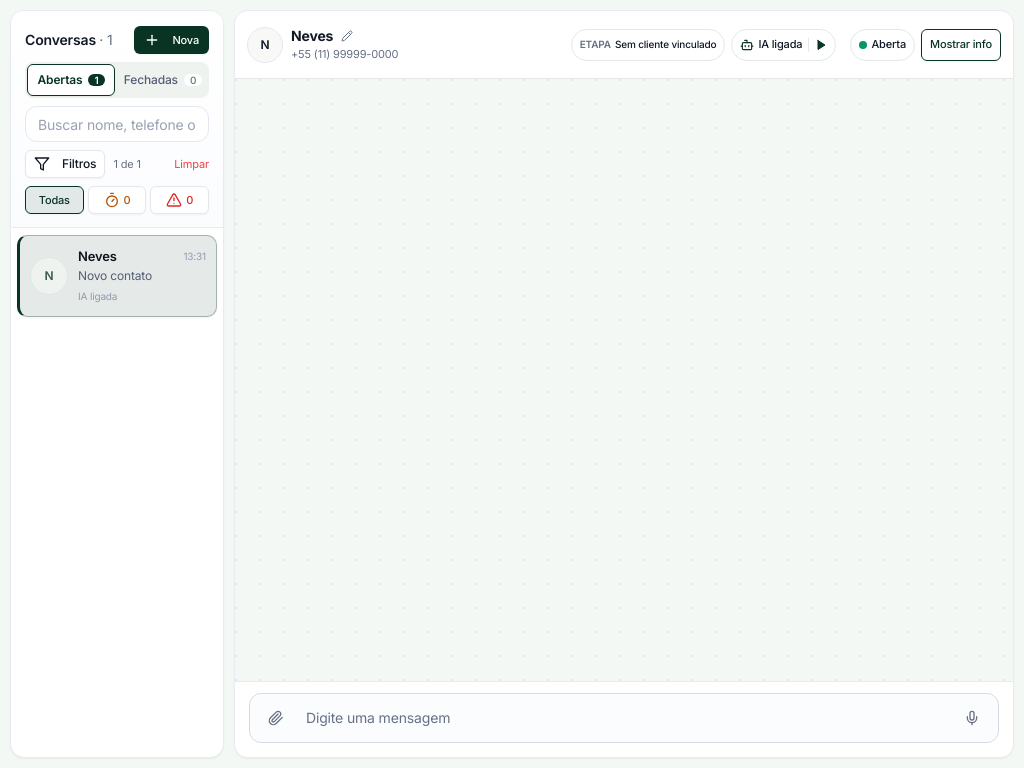
conversas de contatos diferentes do WhatsApp não são unidas, e a tela diz por quê
Click the button named "Editar nome" at (347, 36), box [337,26,357,46]
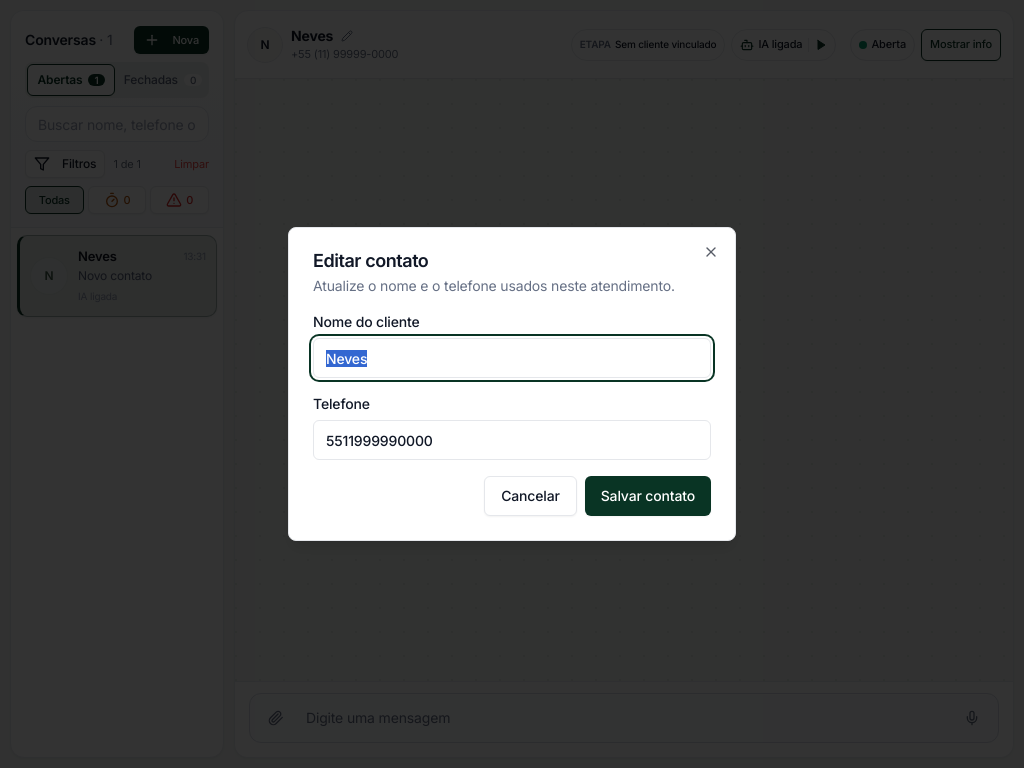
Replace the text in the field labelled "Telefone" with "(11) 98888-7777" at (512, 440), box [313,420,711,460]
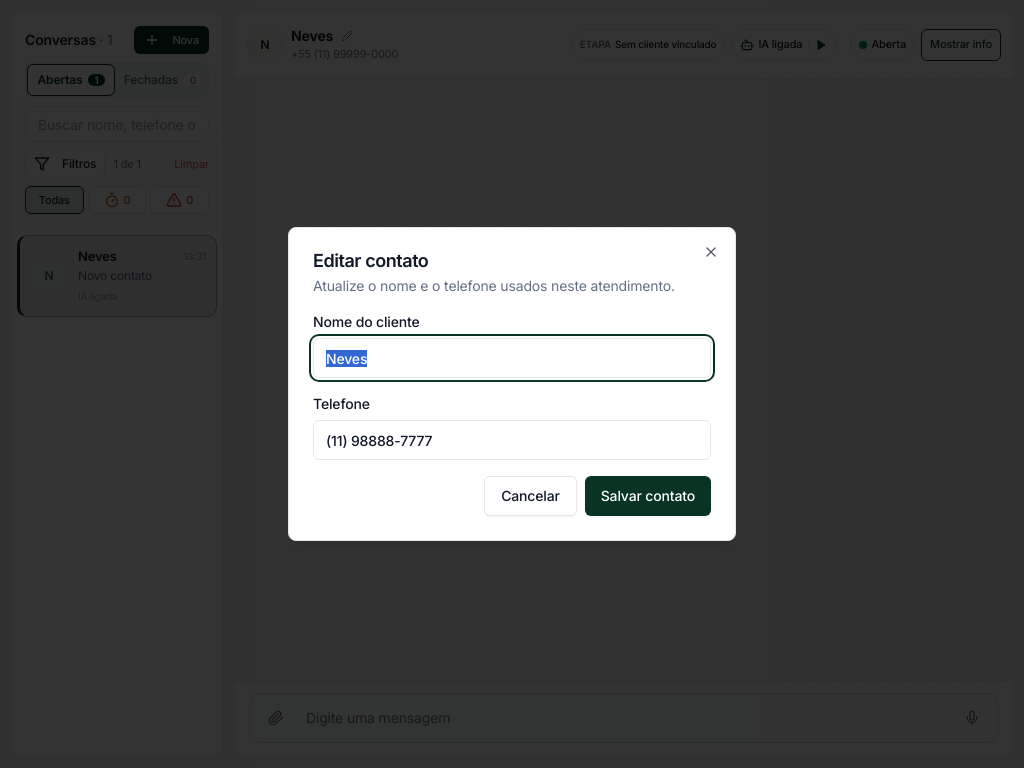
Click the button "Salvar contato" at (648, 496), box [585,476,711,516]
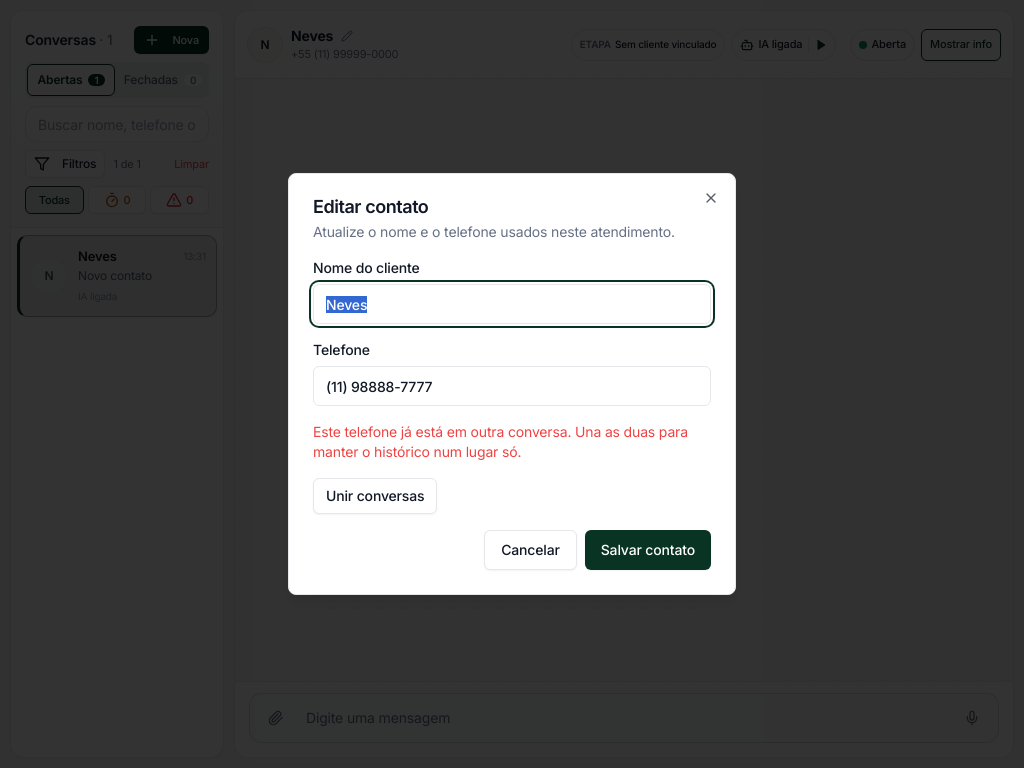
Click the button "Unir conversas" at (375, 496), box [313,478,437,514]
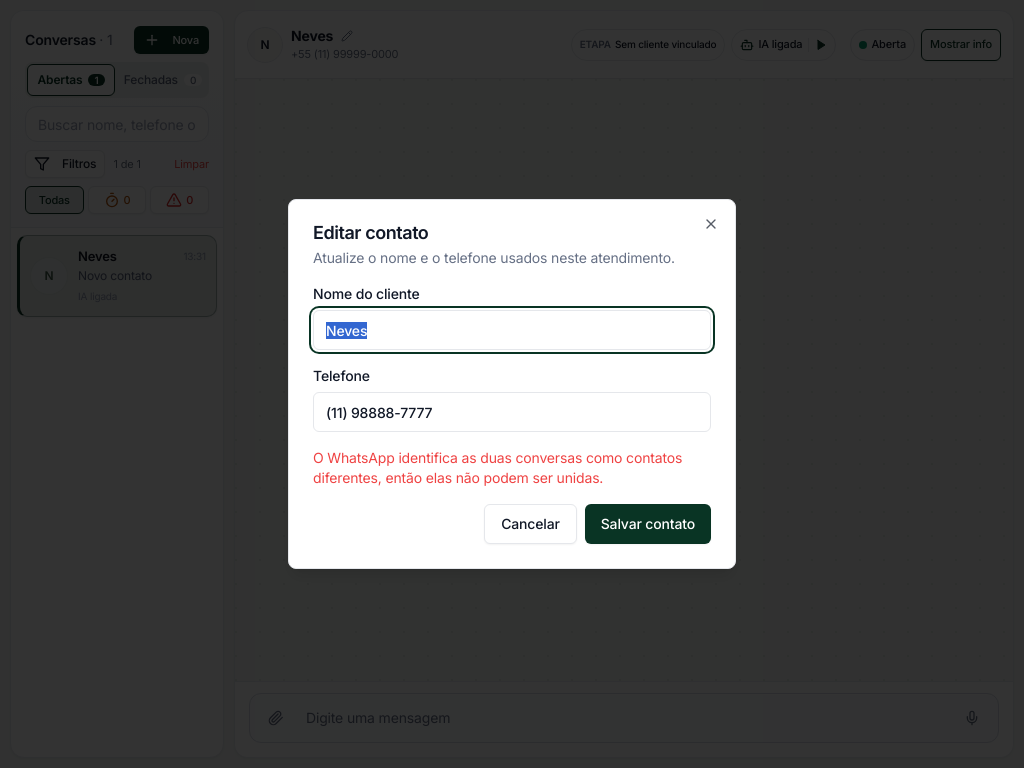
Expected: the text "contatos diferentes" shows "não podem ser unidas", [313,449,682,486]
Expected: the button "Unir conversas" is gone
